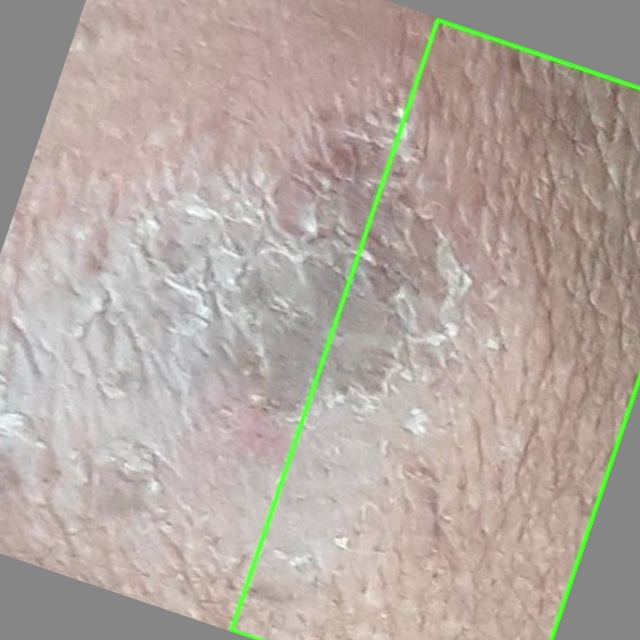Eczema: (232, 19, 639, 639)
